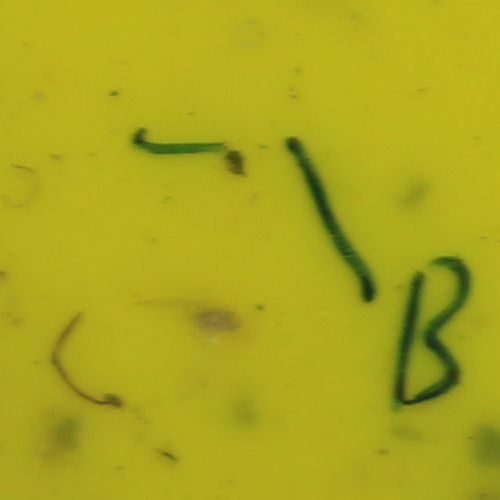Glycaspis: (184, 304, 249, 332)
